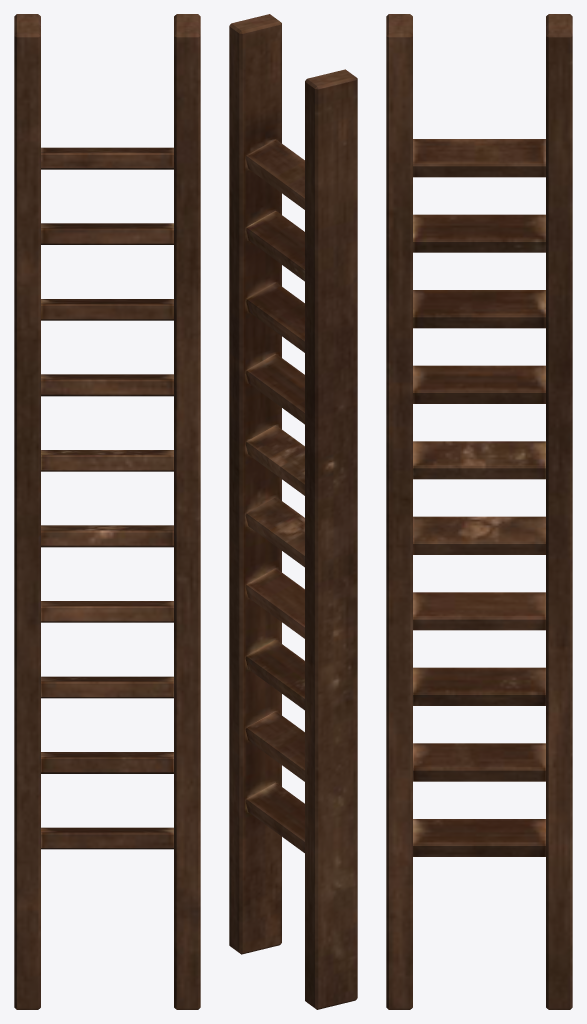
File: Ladder_LP.glb
3 views of the same model, side by side, from view 1: azimuth 90°, elevation 25°; view 2: azimuth 210°, elevation 25°; view 3: azimuth 270°, elevation 25° (orthographic). The views are drawn at different scales.
Visible parts, largest first — view 1: Ladder_LP; view 2: Ladder_LP; view 3: Ladder_LP.
Part boxes in pixels (box(x1,y1,x2,y2)): Ladder_LP: box(14, 14, 200, 1009); Ladder_LP: box(229, 14, 357, 1009); Ladder_LP: box(386, 14, 572, 1009).
Bounding box in the file's own units: 0.1566 × 3.23 × 0.5596.
1 material, 1 textured.
